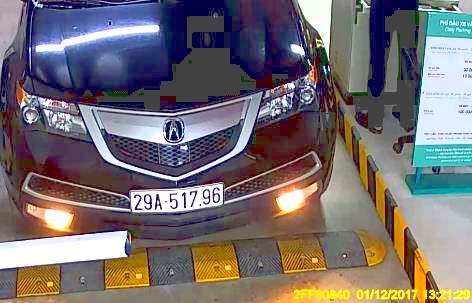plate: (128, 184, 225, 215)
